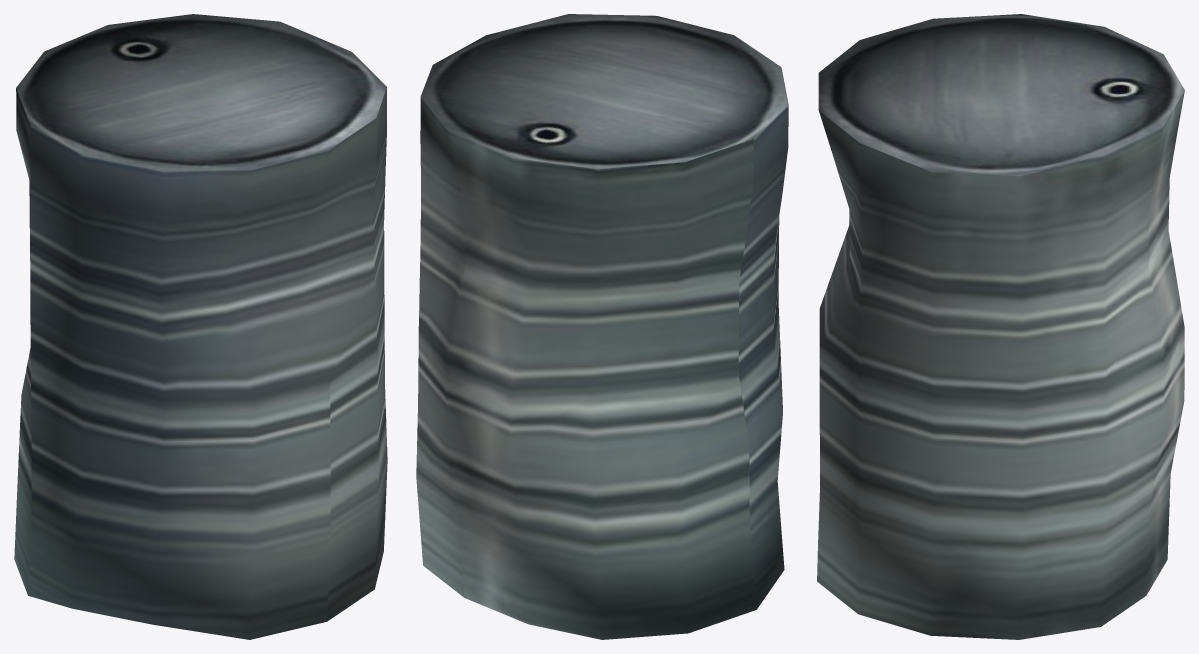
File: barrel.glb
3 renders of one model, left to right at view 1: azimuth 30°, elevation 25°; view 2: azimuth 150°, elevation 25°; view 3: azimuth 270°, elevation 25°, orthographic.
Visible parts, largest first — view 1: barrel; view 2: barrel; view 3: barrel.
Part boxes in pixels (x1,y1,x2,y2): barrel: (14,14,387,639); barrel: (416,14,788,639); barrel: (817,14,1184,639).
Bounding box in the file's own units: 2.75 × 3.81 × 2.68.
Materials: 1 (1 with a texture image).
